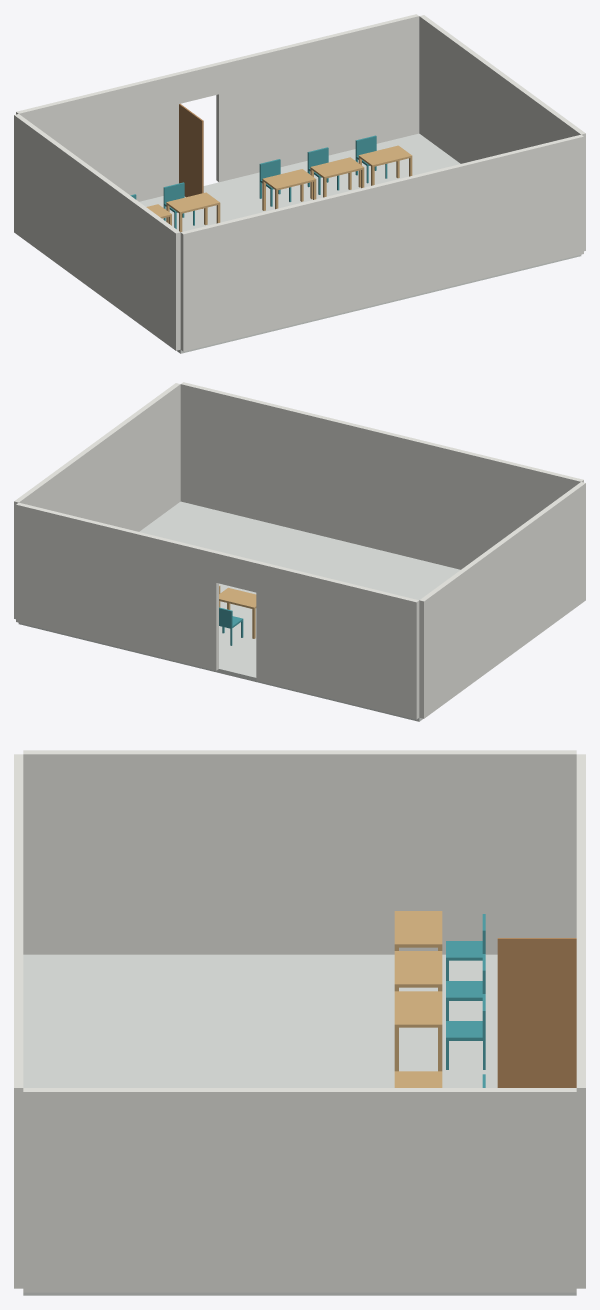
3 renders of one model, top to bottom at view 1: azimuth 30°, elevation 25°; view 2: azimuth 150°, elevation 25°; view 3: azimuth 270°, elevation 25°, orthographic. The views are drawn at different scales.
Parts seen in each view (by area): view 1: room:north:full, room:south:high, room:west:full, room:east:full, room:south:low, room:floor, door:leaf, room:south:lintel, seat-4:table:top, seat-5:table:top, seat-6:table:top, seat-3:table:top; view 2: room:north:full, room:south:high, room:west:full, room:south:low, room:floor, room:east:full, room:south:lintel, seat-4:table:top; view 3: room:east:full, room:west:full, room:floor, door:leaf, room:north:full, room:south:high, seat-1:table:top, seat-2:table:top, seat-3:table:top, room:south:low, seat-4:table:top, seat-3:chair:seat (+2 smaller).
Part boxes in pixels (<box>): room:north:full: <box>180,134,583,351</box>; room:south:high: <box>216,14,419,182</box>; room:west:full: <box>14,114,180,350</box>; room:east:full: <box>419,15,585,251</box>; room:south:low: <box>16,73,178,201</box>; room:floor: <box>139,133,581,353</box>; door:leaf: <box>179,103,203,208</box>; room:south:lintel: <box>176,63,218,103</box>; seat-4:table:top: <box>262,169,316,190</box>; seat-5:table:top: <box>310,157,364,178</box>; seat-6:table:top: <box>358,145,412,167</box>; seat-3:table:top: <box>166,192,220,213</box>; room:north:full: <box>180,382,583,569</box>; room:south:high: <box>16,502,218,670</box>; room:west:full: <box>419,482,585,718</box>; room:south:low: <box>256,561,419,719</box>; room:floor: <box>18,501,460,721</box>; room:east:full: <box>14,383,180,619</box>; room:south:lintel: <box>216,551,258,592</box>; seat-4:table:top: <box>219,587,256,609</box>; room:east:full: <box>23,1088,576,1292</box>; room:west:full: <box>23,750,576,954</box>; room:floor: <box>23,954,576,1295</box>; door:leaf: <box>497,938,576,1087</box>; room:north:full: <box>14,754,23,1288</box>; room:south:high: <box>576,921,585,1288</box>; seat-1:table:top: <box>394,911,442,947</box>; seat-2:table:top: <box>394,951,442,987</box>; seat-3:table:top: <box>394,991,442,1027</box>; room:south:low: <box>576,754,585,887</box>; seat-4:table:top: <box>394,1071,442,1087</box>; seat-3:chair:seat: <box>446,1021,485,1040</box>.
Size of the model in its own units: 10.24 by 2.9 by 7.24.
